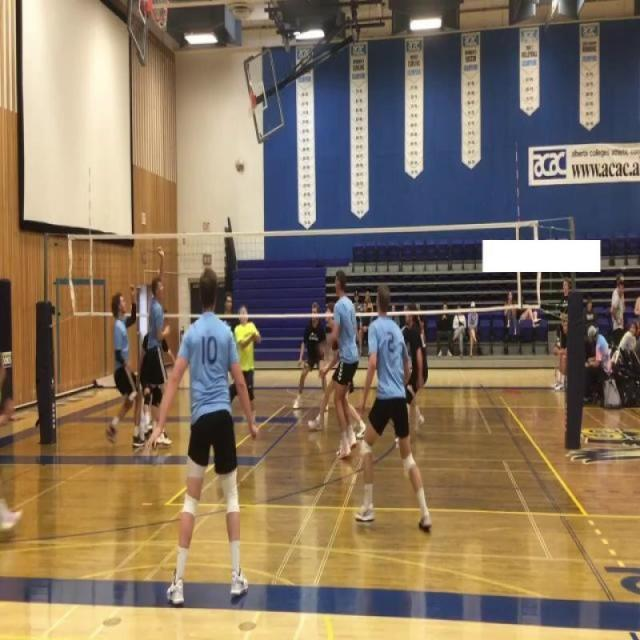volleyball: (234, 156, 247, 177)
